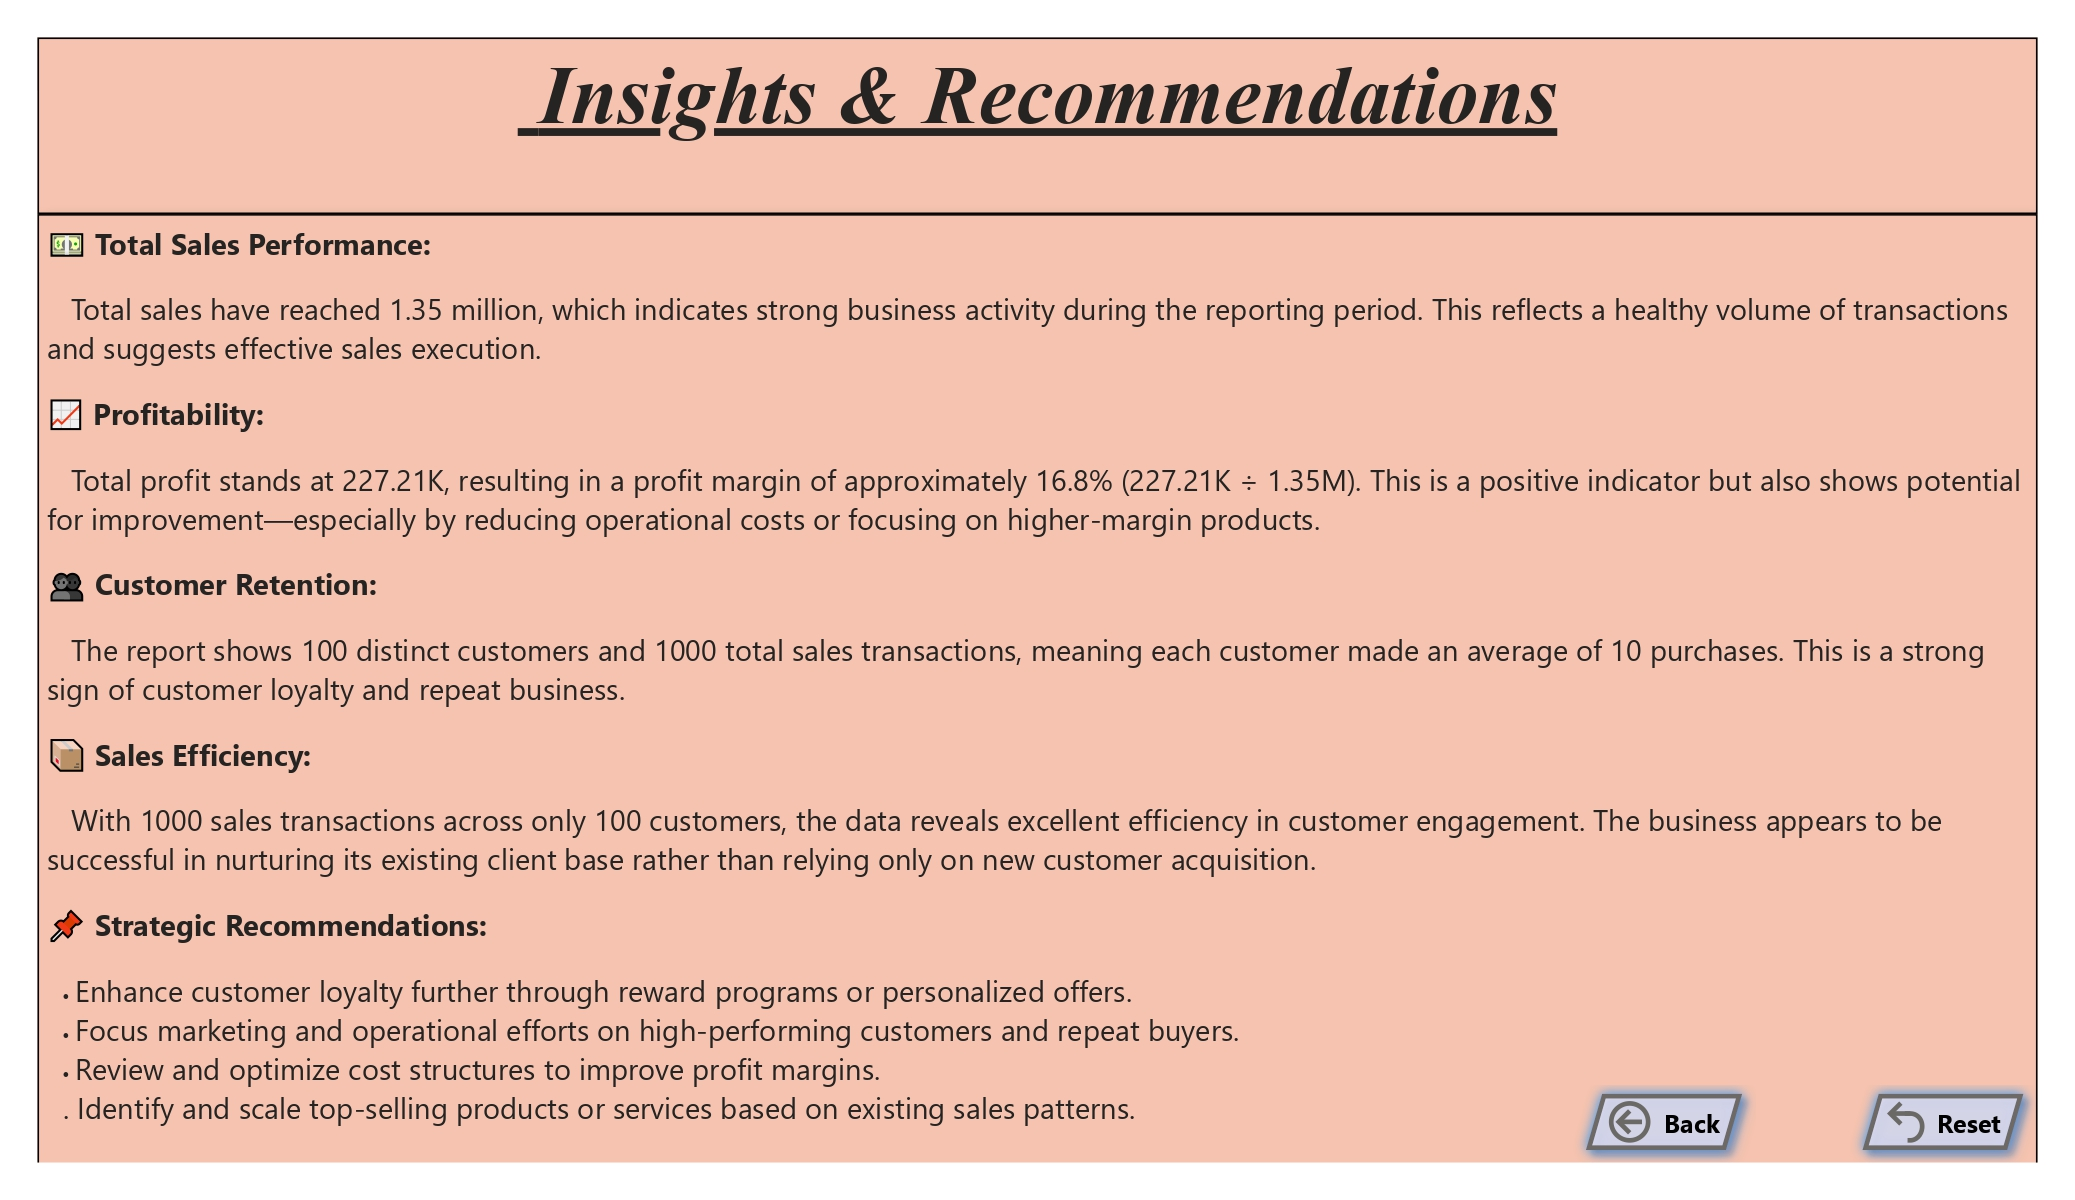

The dashboard page shown, as its layout file describes it:
{"tool":"powerbi","page":{"name":"Insights","canvas":[1280,720],"ordinal":6},"visuals":[{"type":"textbox","box":[0,0,1280,112.8],"z":0},{"type":"textbox","box":[0,112.8,1280,608],"z":1000},{"type":"actionButton","box":[981.9,666.9,117.9,53.9],"z":2000},{"type":"actionButton","box":[1158.7,666.9,121.3,53.9],"z":3000}]}

Visuals, with their boxes on the page's 1280x720 design canvas (x1, y1, x2, y2). These are canvas units, not pixel positions in the 2075x1200 screenshot, which may show the page scaled, cropped or inside an application window:
textbox: <box>0,0,1280,113</box>
textbox: <box>0,113,1280,721</box>
actionButton: <box>982,667,1100,721</box>
actionButton: <box>1159,667,1280,721</box>
